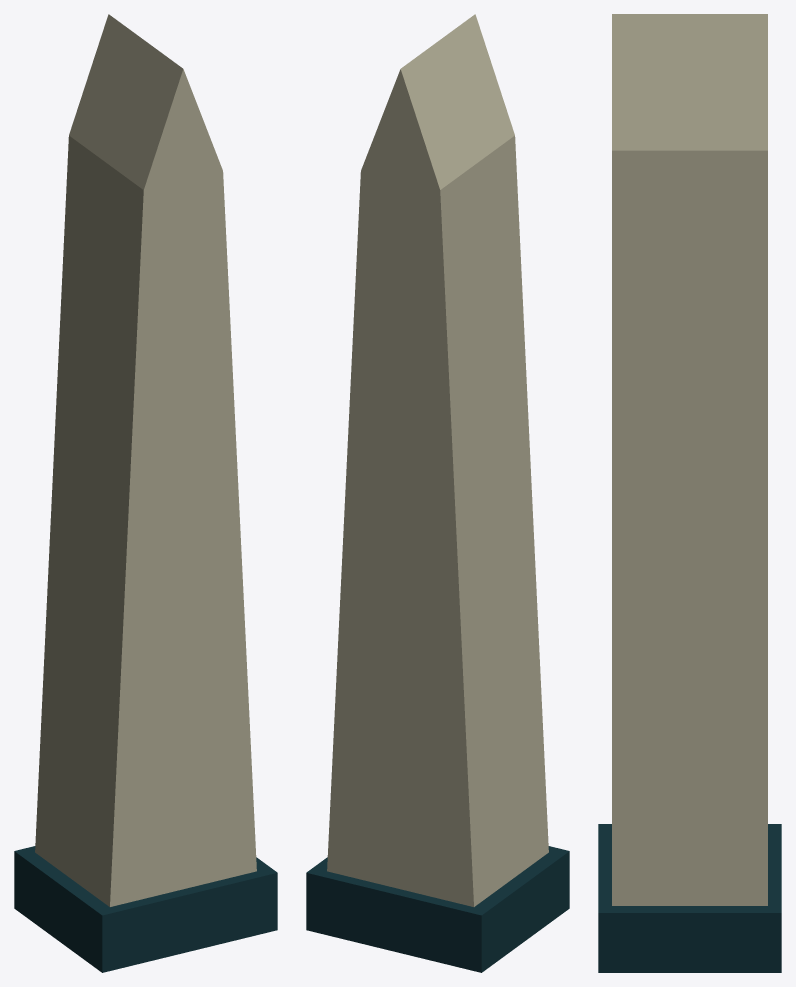
File: WP_A17_blade_buttress_v02.glb
The picture shows the model from 3 angles, left to right: view 1: azimuth 30°, elevation 25°; view 2: azimuth 150°, elevation 25°; view 3: azimuth 270°, elevation 25°; orthographic projection. The views are drawn at different scales.
Visible parts, largest first — view 1: Buttress; view 2: Buttress; view 3: Buttress.
Part boxes in pixels (x1,y1,x2,y2): Buttress: [14, 14, 277, 972]; Buttress: [306, 14, 569, 972]; Buttress: [598, 14, 781, 972].
Bounding box in the file's own units: 1.15 × 5.5 × 1.
